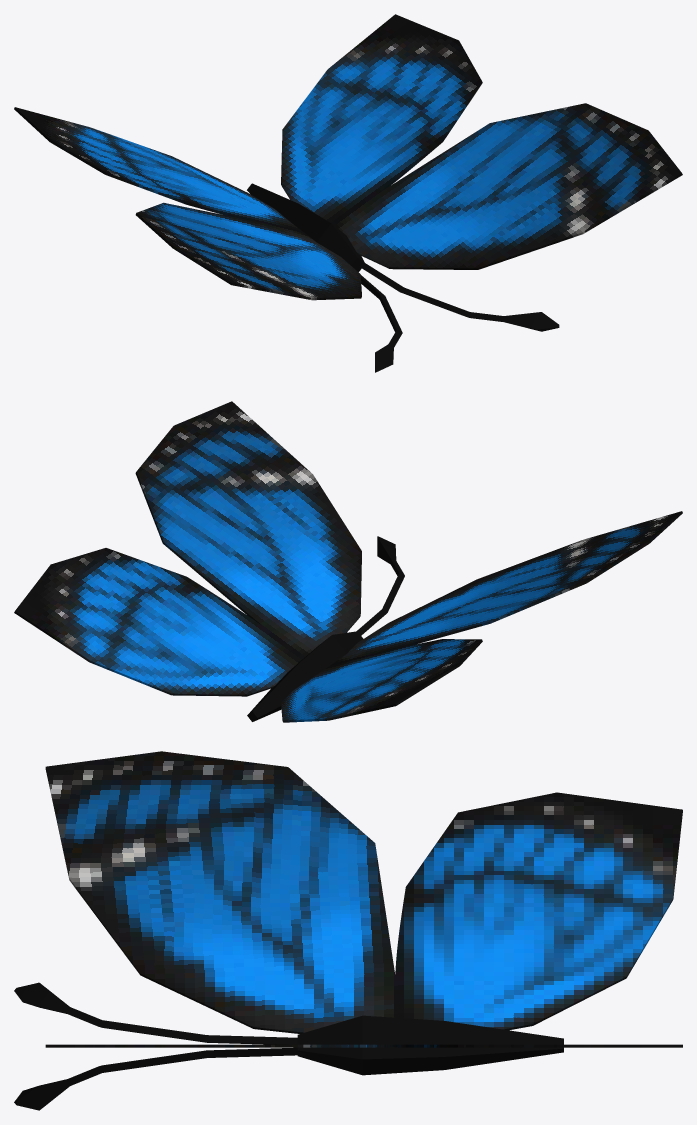
Rendered from Personage_Butterfly_blue.FBX.
The picture shows the model from 3 angles, top to bottom: view 1: azimuth 30°, elevation 25°; view 2: azimuth 150°, elevation 25°; view 3: azimuth 270°, elevation 25°; orthographic projection. The views are drawn at different scales.
Visible parts, largest first — view 1: Body; view 2: Body; view 3: Body.
Boxes of the visible parts, x1=… form: Body: x1=14, y1=14, x2=682, y2=372; Body: x1=14, y1=401, x2=682, y2=722; Body: x1=14, y1=751, x2=682, y2=1110.
Size of the model in its own units: 37.94 by 10.67 by 36.45.
